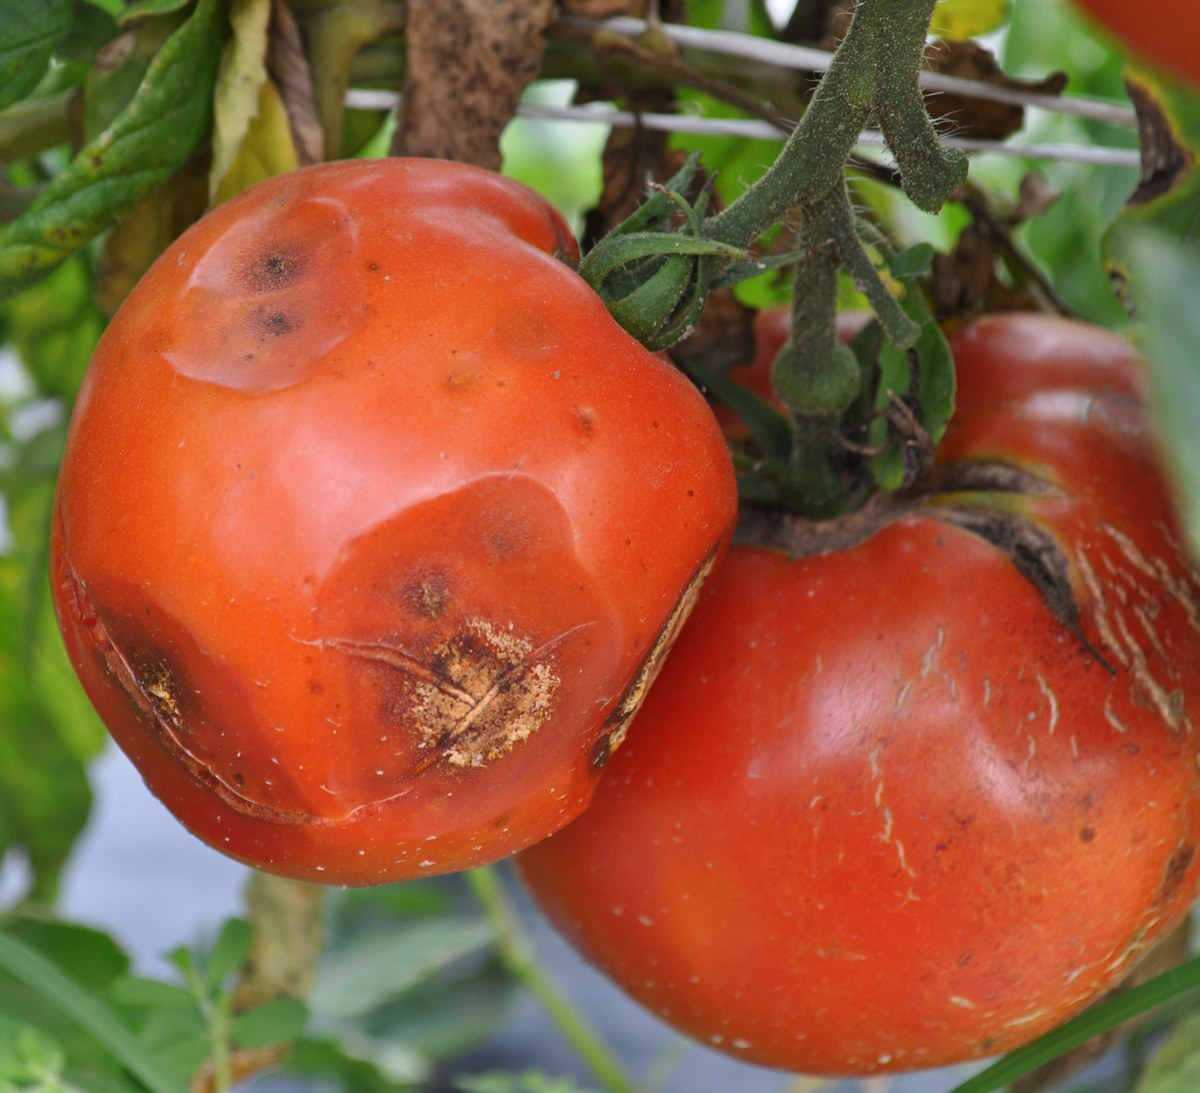anthracnose: (332, 514, 597, 807), (193, 217, 352, 404)
